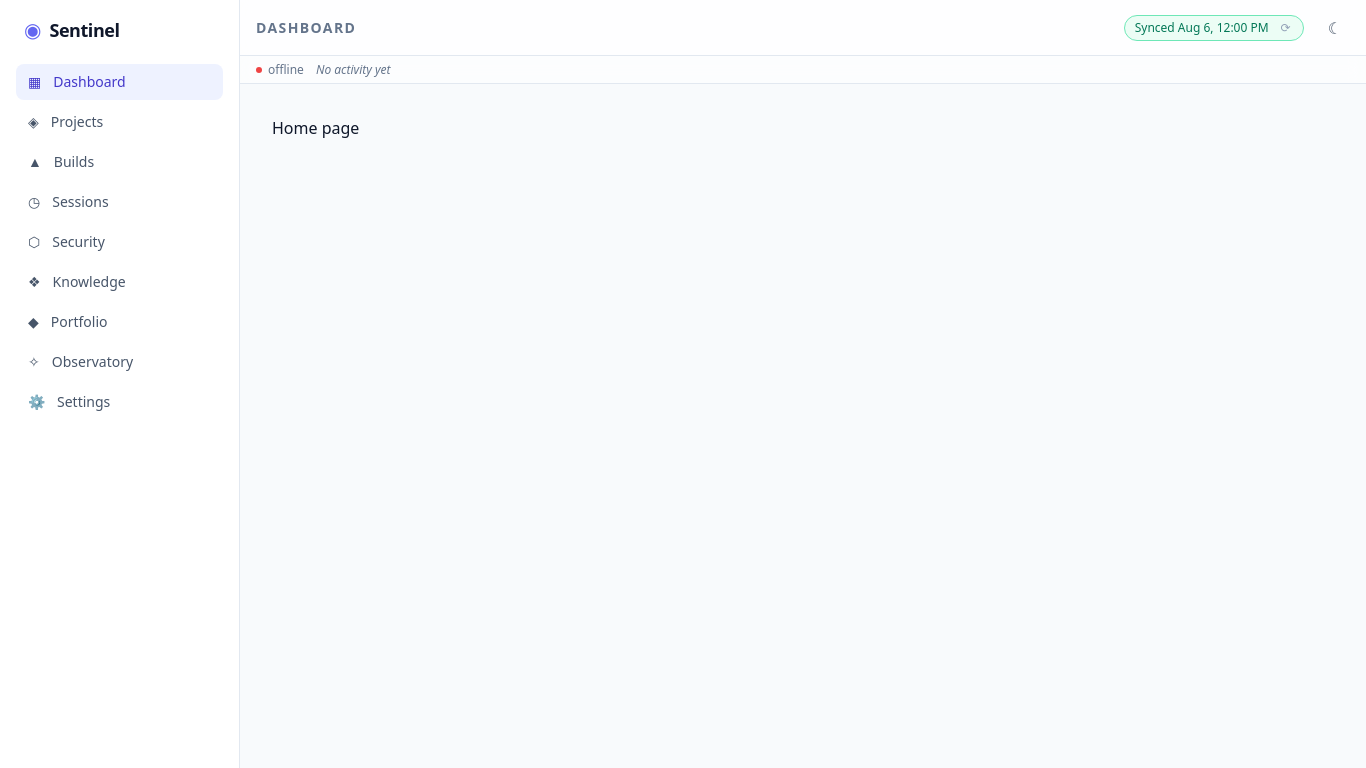
Scenario: Layout › toggles dark mode
Click the button named "Toggle dark mode".
click(1335, 28)  # box [1320,8,1350,48]
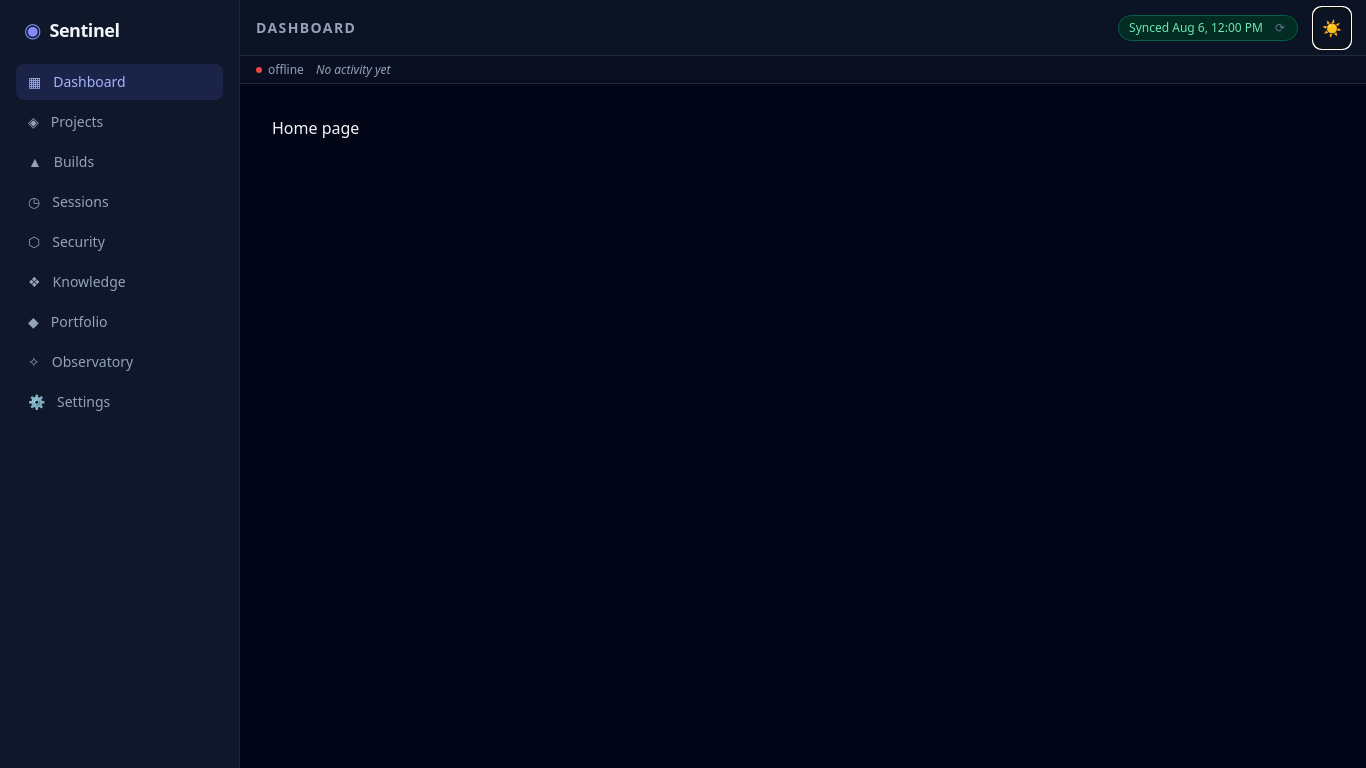
Result: the button named "Toggle dark mode" reads "☀" at [1314,8,1350,48]
